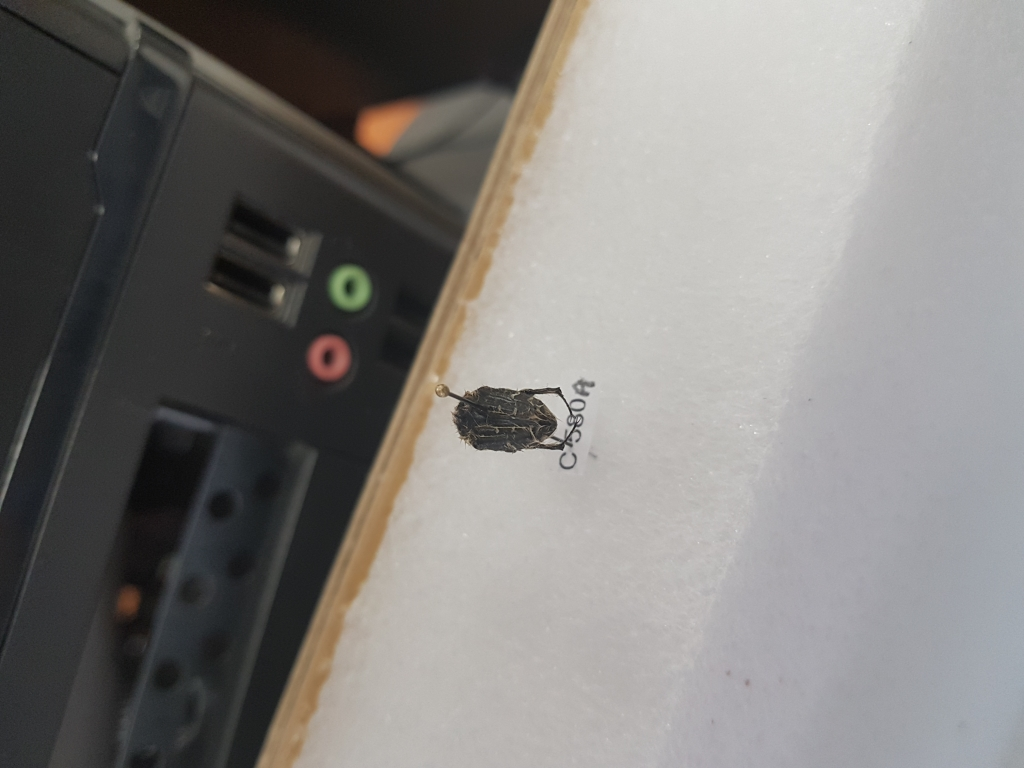Tropinota_hirta: (447, 372, 588, 465)
